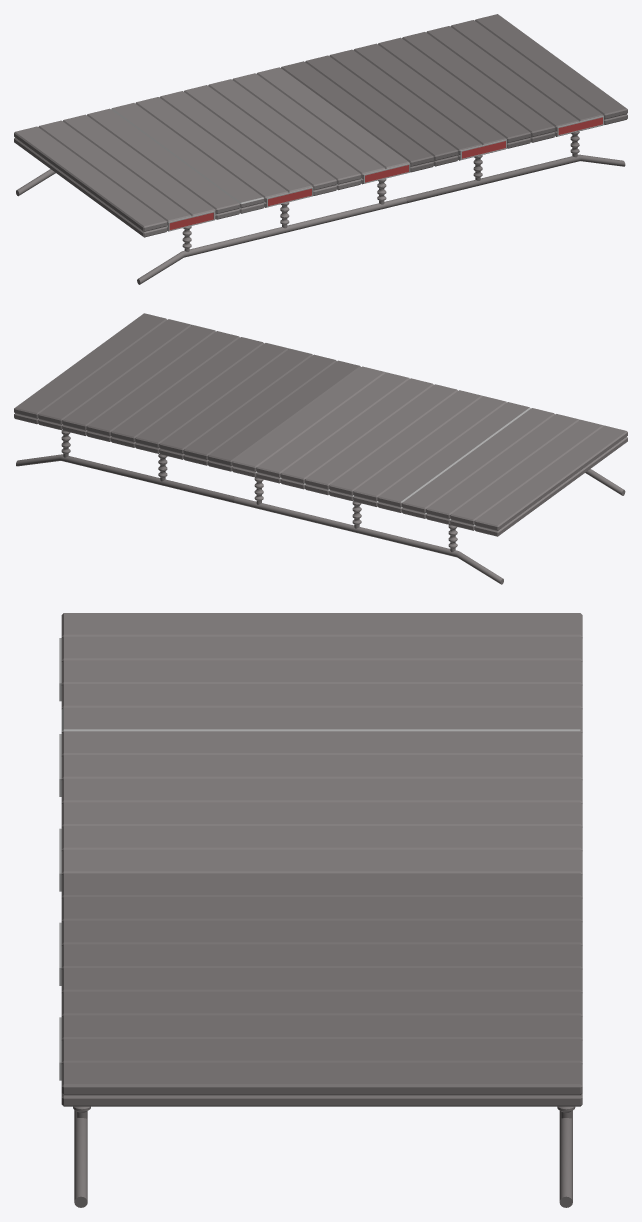
File: Breakable Bridge.fbx
The picture shows the model from 3 angles, top to bottom: view 1: azimuth 30°, elevation 25°; view 2: azimuth 150°, elevation 25°; view 3: azimuth 270°, elevation 25°; orthographic projection. The views are drawn at different scales.
Visible parts, largest first — view 1: polySurface753, polySurface159; view 2: polySurface753, polySurface159; view 3: polySurface753, polySurface159.
Boxes of the visible parts, left/top/right/bottom form: polySurface753: left=14, top=67, right=410, bottom=284; polySurface159: left=281, top=14, right=627, bottom=203; polySurface753: left=232, top=366, right=627, bottom=584; polySurface159: left=14, top=313, right=360, bottom=502; polySurface753: left=59, top=613, right=582, bottom=891; polySurface159: left=59, top=873, right=582, bottom=1207.
Bounding box in the file's own units: 212 × 25.65 × 99.17.
